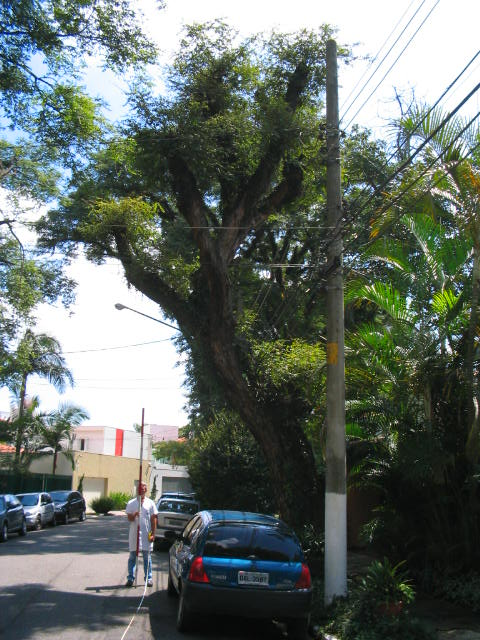stem: (256, 445, 327, 554)
stick: (125, 408, 152, 588)
tree: (41, 15, 357, 551)
